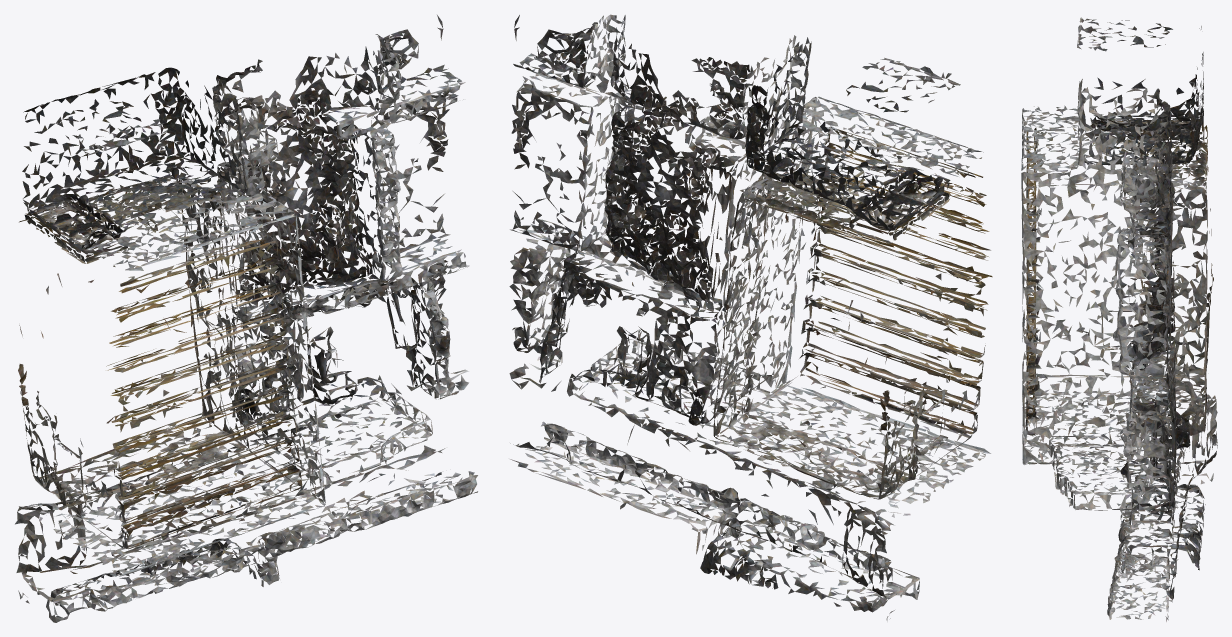
The picture shows the model from 3 angles, left to right: view 1: azimuth 30°, elevation 25°; view 2: azimuth 150°, elevation 25°; view 3: azimuth 270°, elevation 25°; orthographic projection. The views are drawn at different scales.
Bounding box in the file's own units: 12.11 × 14.04 × 5.25.
1 material, 1 textured.
